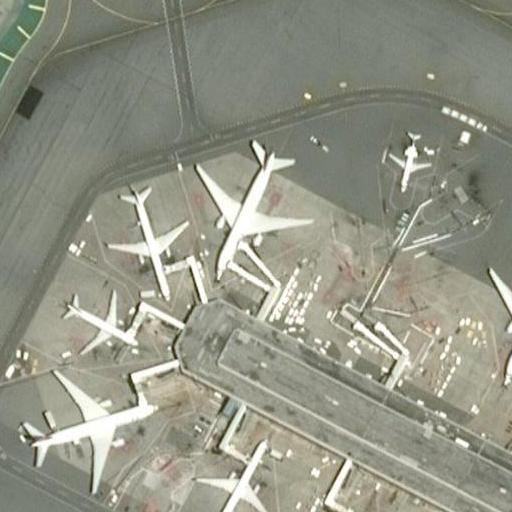Aircraft: (22, 363, 161, 492), (194, 139, 312, 278), (106, 185, 185, 292), (192, 429, 271, 512), (55, 283, 140, 358), (484, 240, 512, 379), (385, 132, 432, 192)
